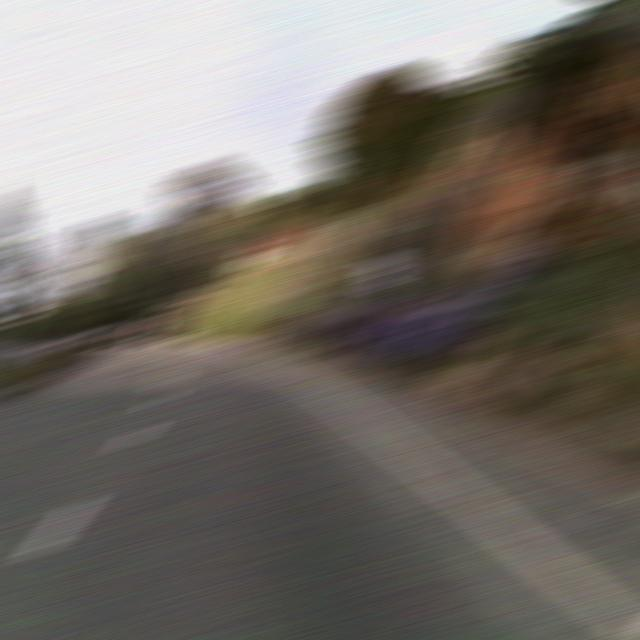speedLimit40: (363, 254, 402, 289)
